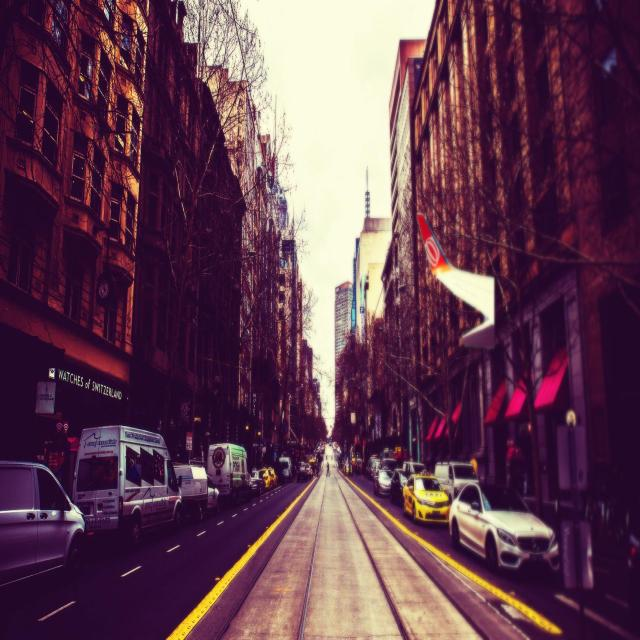airplane: (416, 211, 496, 350)
